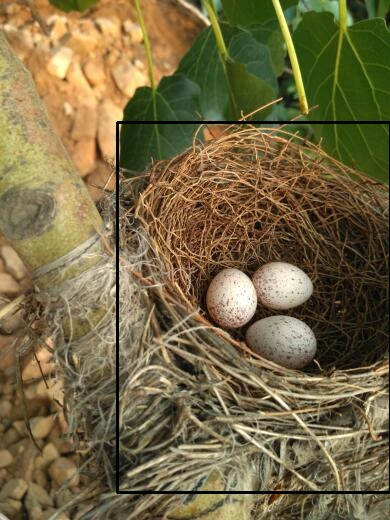bird-nest: (117, 122, 390, 492)
